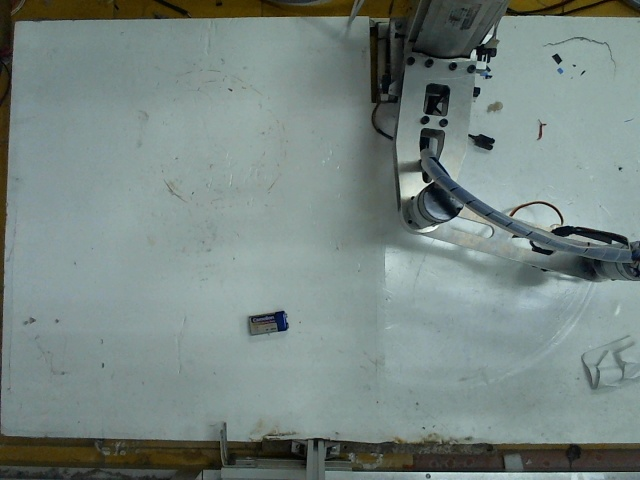battery: (244, 310, 288, 336)
